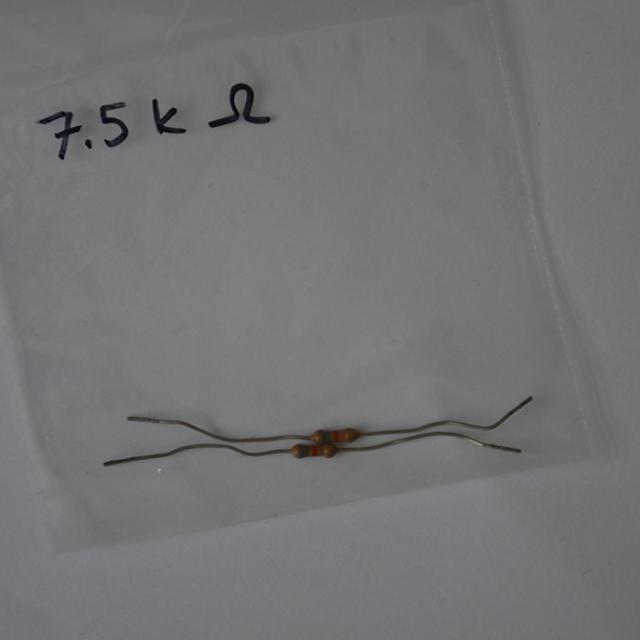gold: (347, 427, 351, 441), (326, 445, 330, 456)
green: (327, 431, 332, 441), (305, 446, 309, 458)
red: (312, 445, 317, 456), (334, 430, 339, 441)
resistor: (287, 443, 339, 463), (309, 424, 362, 442)
violet: (299, 443, 304, 458), (321, 429, 326, 442)
